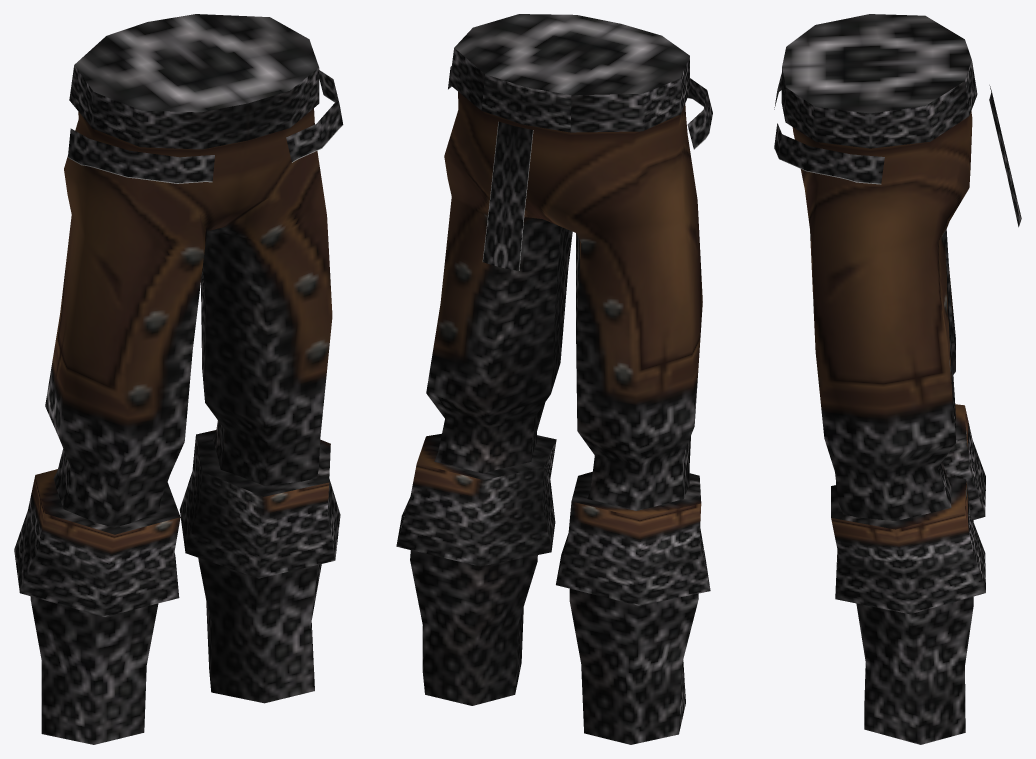
The model's file is hum_medium_a_e14c5b46.glb.
3 renders of one model, left to right at view 1: azimuth 30°, elevation 25°; view 2: azimuth 150°, elevation 25°; view 3: azimuth 270°, elevation 25°, orthographic. The views are drawn at different scales.
Bounding box in the file's own units: 0.6596 × 1.3 × 0.4831.
Materials: 1 (1 with a texture image).
